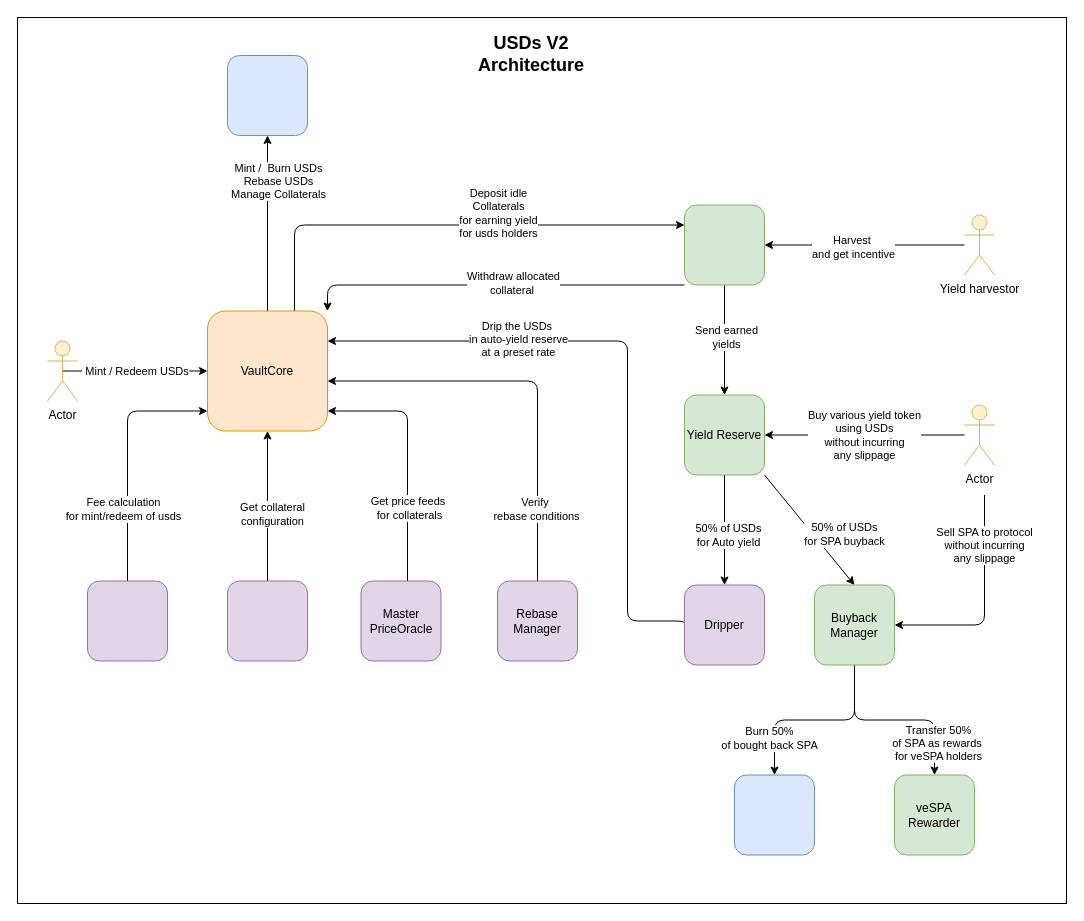
Image size: 1084x921. Some labels were removed from this diagram. Here are the shapes that lost their labels. From the top down, the box of each, then its label:
(226, 54, 308, 136): USDs
(684, 204, 764, 285): YieldEarning Strategies
(86, 580, 168, 661): Fee Calculator
(226, 580, 308, 661): Collateral Manager
(734, 774, 814, 855): SPA
